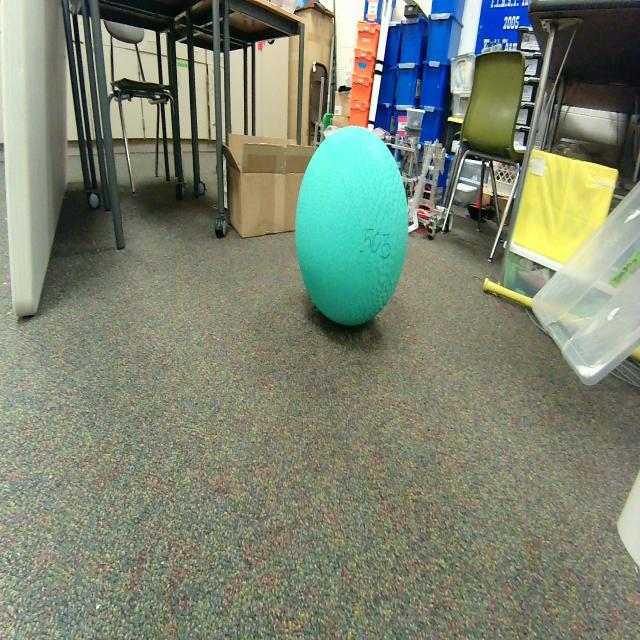algae: (296, 126, 410, 326)
